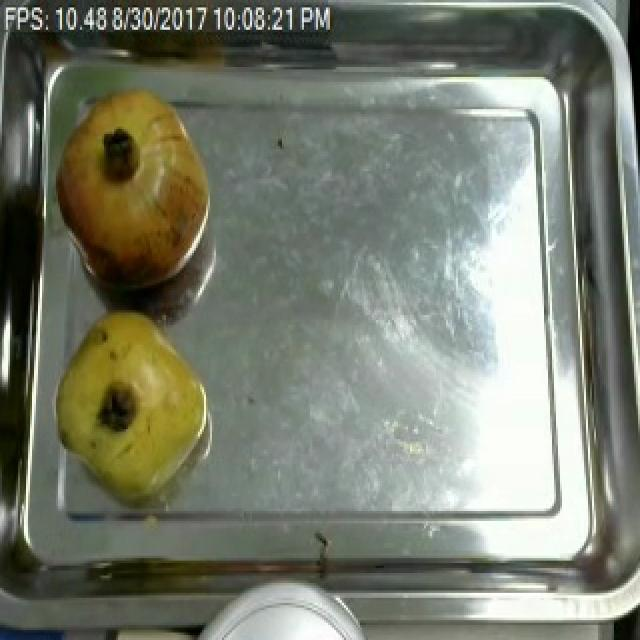fruit: (50, 81, 222, 302), (46, 300, 218, 506)
